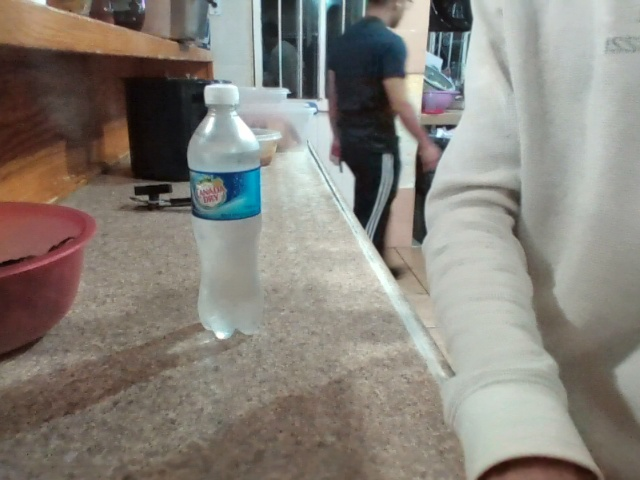botella: (165, 67, 308, 347)
